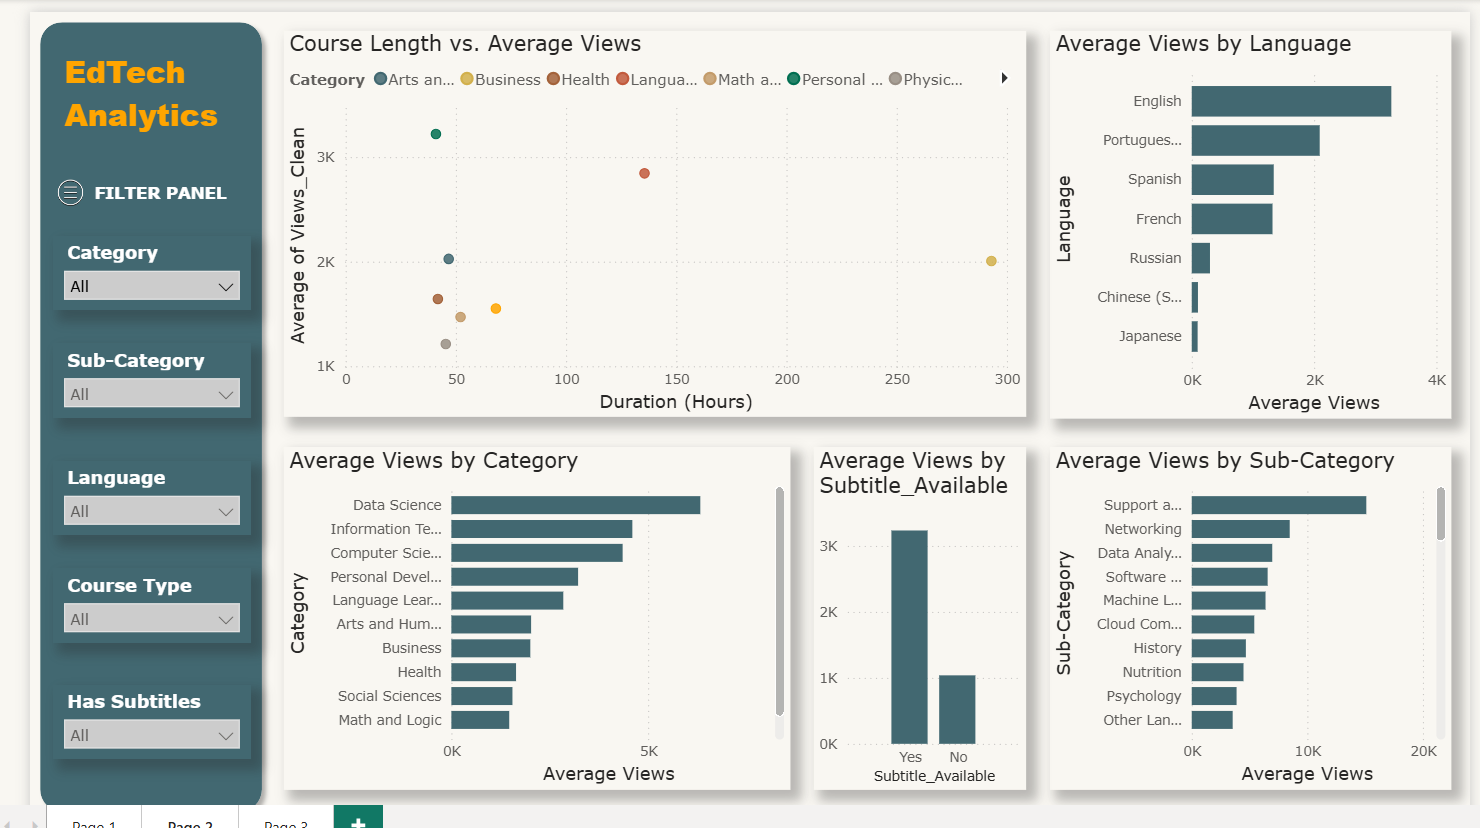

Layout of this report page (visuals, bound fields, positions):
{"tool":"powerbi","page":{"name":"Page 2","canvas":[1280,720],"ordinal":1},"visuals":[{"type":"clusteredBarChart","fields":{"Category":["DimCategory.Category"],"Y":["FactCourses.Average Views"]},"box":[225.6,386.7,450,304.4],"z":0},{"type":"clusteredBarChart","fields":{"Category":["FactCourses.Sub-Category"],"Y":["FactCourses.Average Views"]},"box":[906.7,386.7,356.7,304.4],"z":1000},{"type":"clusteredBarChart","fields":{"Category":["DimLanguage.Language"],"Y":["FactCourses.Average Views"]},"box":[906.7,16.7,356.7,344.4],"z":2000},{"type":"scatterChart","title":"Course Length vs. Average Views","fields":{"Category":["FactCourses.Course Title"],"X":["Avg(FactCourses.Duration_Hours)"],"Y":["Avg(FactCourses.Views_Clean)"],"Series":["DimCategory.Category"]},"box":[225.6,16.7,660,343.3],"z":3000},{"type":"clusteredColumnChart","title":"Average Views by Subtitles","fields":{"Category":["FactCourses.Subtitle_Available"],"Y":["FactCourses.Average Views"]},"box":[696.7,386.7,188.9,304.4],"z":4000},{"type":"shape","box":[0,0,215.1,719.8],"z":5000},{"type":"textbox","title":"EdTech Analytics Overview","box":[25.6,29.1,166.3,104.7],"z":6000},{"type":"textbox","box":[52.2,146.5,144.3,27.8],"z":7000},{"type":"image","box":[19.6,146.5,32.6,27.8],"z":8000},{"type":"slicer","fields":{"Values":["DimCategory.Category"]},"box":[19.8,198.8,176.7,66.3],"z":9000},{"type":"slicer","fields":{"Values":["FactCourses.Sub-Category"]},"box":[19.8,294.2,176.7,66.3],"z":10000},{"type":"slicer","fields":{"Values":["DimLanguage.Language"]},"box":[19.8,398.8,176.7,66.3],"z":11000},{"type":"slicer","fields":{"Values":["FactCourses.Subtitle_Available"]},"box":[19.8,597.7,176.7,66.3],"z":12000},{"type":"slicer","fields":{"Values":["FactCourses.Course Type"]},"box":[19.8,494.2,176.7,66.3],"z":13000}]}

Visuals, with their boxes on the page's 1280x720 design canvas (x1, y1, x2, y2). These are canvas units, not pixel positions in the 1480x828 screenshot, which may show the page scaled, cropped or inside an application window:
clusteredBarChart - DimCategory.Category x FactCourses.Average Views: 226:387:676:691
clusteredBarChart - FactCourses.Sub-Category x FactCourses.Average Views: 907:387:1263:691
clusteredBarChart - DimLanguage.Language x FactCourses.Average Views: 907:17:1263:361
"Course Length vs. Average Views" scatterChart: 226:17:886:360
"Average Views by Subtitles" clusteredColumnChart: 697:387:886:691
shape: 0:0:215:720
"EdTech Analytics Overview" textbox: 26:29:192:134
textbox: 52:146:196:174
image: 20:146:52:174
slicer - DimCategory.Category: 20:199:196:265
slicer - FactCourses.Sub-Category: 20:294:196:360
slicer - DimLanguage.Language: 20:399:196:465
slicer - FactCourses.Subtitle_Available: 20:598:196:664
slicer - FactCourses.Course Type: 20:494:196:560
